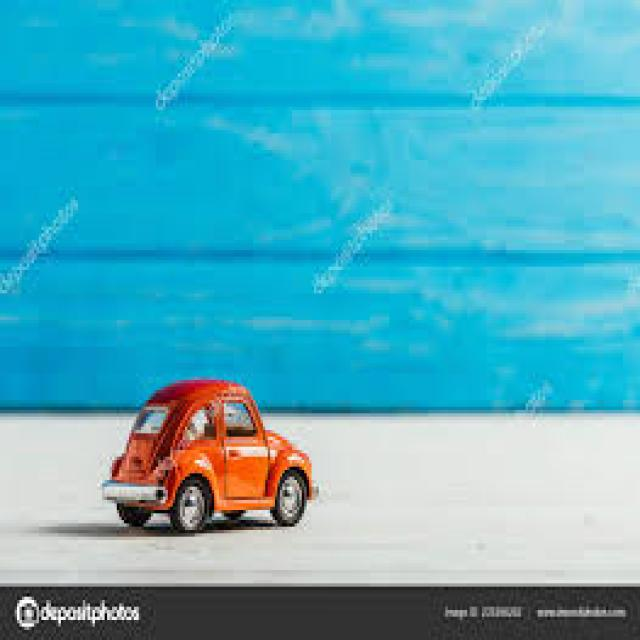Car: (100, 377, 314, 530)
